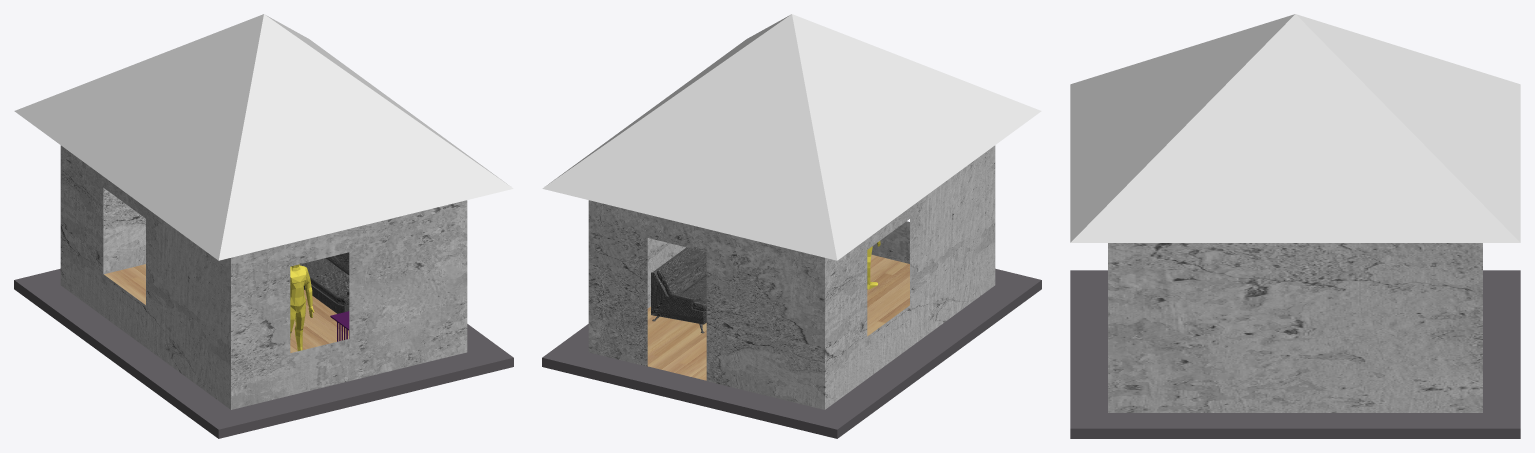
The model's file is tinyhouse.glb.
The picture shows the model from 3 angles, left to right: view 1: azimuth 30°, elevation 25°; view 2: azimuth 150°, elevation 25°; view 3: azimuth 270°, elevation 25°; orthographic projection. The views are drawn at different scales.
Visible parts, largest first — view 1: roof, walls, Cube, floor, Couch, Basemesh; view 2: roof, walls, Cube, floor, Couch; view 3: roof, walls, Cube.
Part boxes in pixels (bbox=[...]): roof: bbox=[14, 14, 513, 260]; walls: bbox=[60, 145, 467, 409]; Cube: bbox=[14, 268, 513, 438]; floor: bbox=[104, 264, 348, 352]; Couch: bbox=[300, 252, 349, 313]; Basemesh: bbox=[290, 264, 314, 351]; roof: bbox=[542, 14, 1041, 260]; walls: bbox=[588, 145, 995, 409]; Cube: bbox=[542, 268, 1041, 438]; floor: bbox=[647, 254, 909, 380]; Couch: bbox=[651, 247, 706, 333]; roof: bbox=[1070, 14, 1520, 242]; walls: bbox=[1108, 243, 1482, 412]; Cube: bbox=[1070, 270, 1520, 438].
Size of the model in its own units: 5 by 5.08 by 6.
7 materials, 3 textured.
